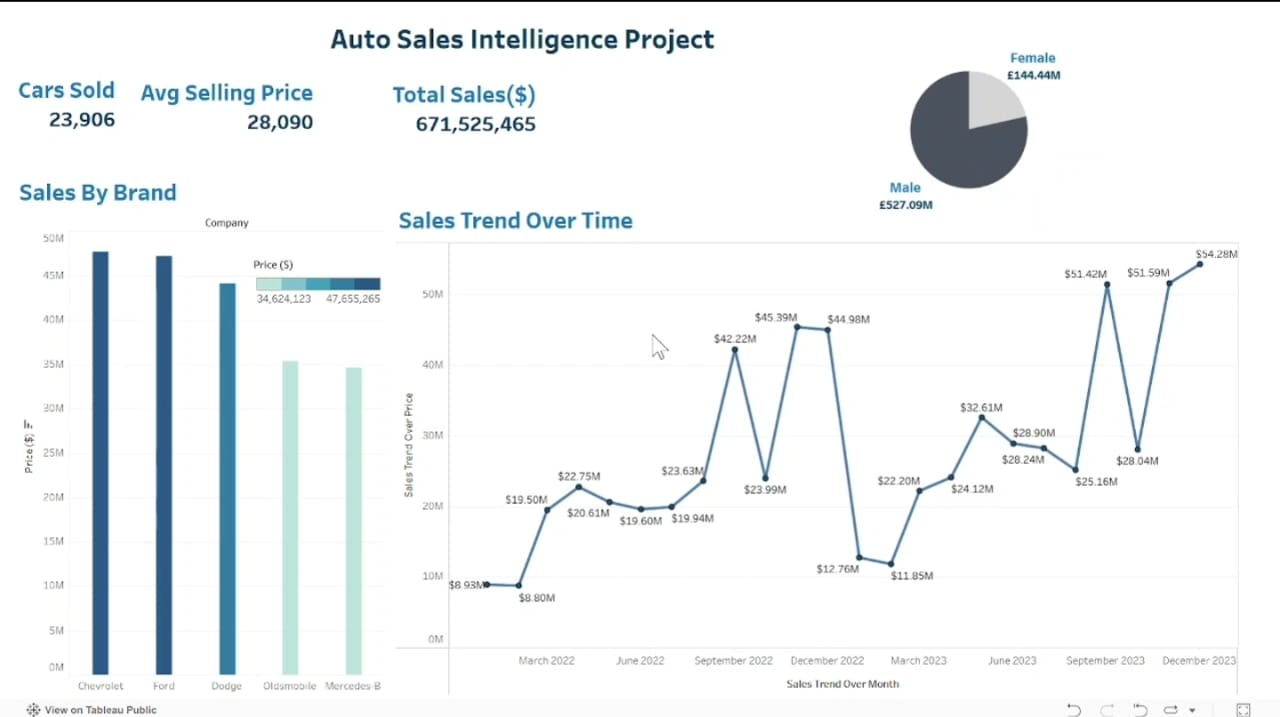

Layout of this report page (visuals, bound fields, positions):
{"tool":"tableau","page":{"name":"Dashboard 1","canvas":[1000,1000],"units":"permille","ordinal":0},"visuals":[{"type":"title","box":[82.7,13.6,651.8,76.5]},{"type":"worksheet","title":"Sales By Gender","mark":"Pie","box":[627,16,260,335.4]},{"type":"worksheet","title":"Cars sold kpi","mark":"Automatic","box":[1.8,83.9,149.1,128.2]},{"type":"worksheet","title":"avg s price kpi","mark":"Automatic","box":[105,87.5,176.8,167.7]},{"type":"worksheet","title":"total Sales kpi","mark":"Automatic","box":[291.5,90,144.8,181.3]},{"type":"worksheet","title":"sales by brand","mark":"Automatic","rows":["Price ($)"],"cols":["Company"],"box":[12.7,241.7,288.4,749.7]},{"type":"worksheet","title":"Sales Trend Over Time","mark":"Automatic","rows":["Price ($)","Price ($)"],"cols":["Date"],"box":[309.6,282.4,657.8,712.7]},{"type":"legend","title":"sales by brand","param":"[federated.0xh0f960k1az1n1dn3b2f1uqx7t3].[sum:Price ($):qk]","box":[198.3,366.2,102.8,108.5]}]}

Visuals, with their boxes on the dashboard's canvas, which has no fixed pixel size, in thousandths of its width and height (x1, y1, x2, y2). These are canvas units, not pixel positions in the 1280x717 screenshot, which may show the page scaled, cropped or inside an application window:
title: bbox=(83, 14, 734, 90)
"Sales By Gender" worksheet (Pie marks): bbox=(627, 16, 887, 351)
"Cars sold kpi" worksheet: bbox=(2, 84, 151, 212)
"avg s price kpi" worksheet: bbox=(105, 88, 282, 255)
"total Sales kpi" worksheet: bbox=(292, 90, 436, 271)
"sales by brand" worksheet: bbox=(13, 242, 301, 991)
"Sales Trend Over Time" worksheet: bbox=(310, 282, 967, 995)
"sales by brand" legend: bbox=(198, 366, 301, 475)
